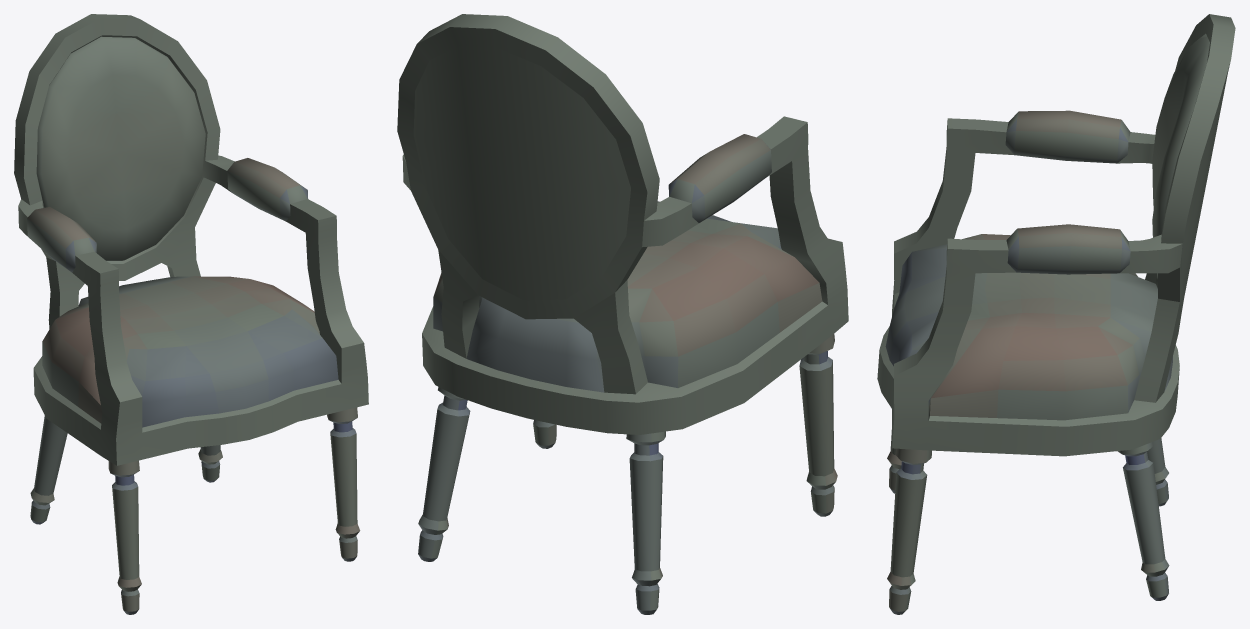
File: chair_fine1.fbx
3 views of the same model, side by side, from view 1: azimuth 30°, elevation 25°; view 2: azimuth 150°, elevation 25°; view 3: azimuth 270°, elevation 25° (orthographic). The views are drawn at different scales.
Visible parts, largest first — view 1: tuoli; view 2: tuoli; view 3: tuoli.
Part boxes in pixels (x1,y1,x2,y2): tuoli: (14, 14, 368, 614); tuoli: (397, 14, 848, 614); tuoli: (877, 14, 1235, 614).
Bounding box in the file's own units: 58.93 × 104 × 64.15.
